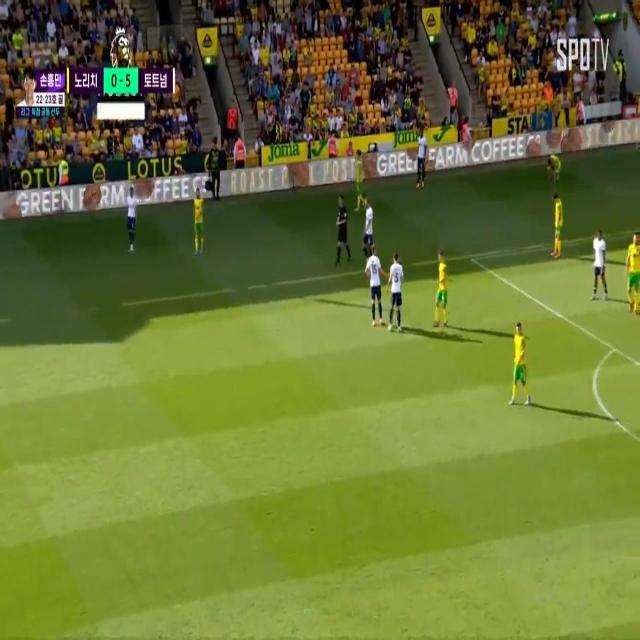player: (387, 254, 405, 342), (511, 322, 524, 414), (591, 230, 609, 294), (366, 245, 380, 327), (626, 228, 640, 308), (188, 190, 204, 252), (124, 186, 138, 256), (437, 247, 446, 331), (354, 144, 364, 218), (552, 193, 564, 254), (417, 124, 429, 182), (364, 189, 373, 256), (547, 149, 559, 183)
referee: (334, 196, 355, 265)
